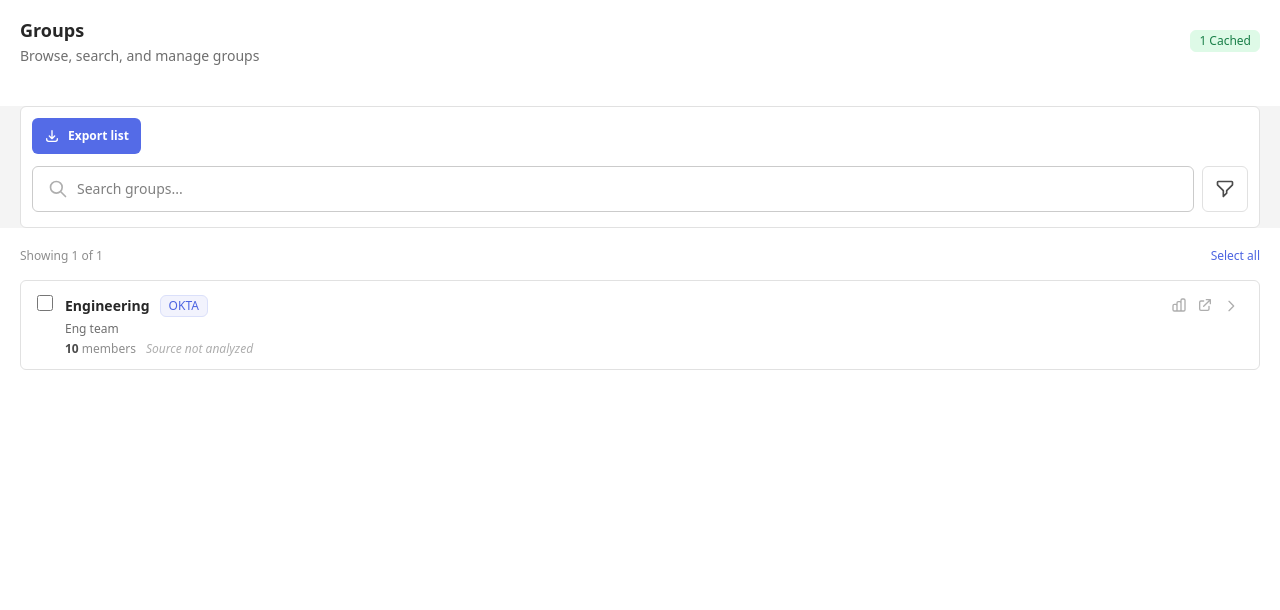
it: GroupsTab sub-navigation › auto-analyzes a plain drill-in when the group is within the auto-load budget
Click the button named "Expand Engineering" at (1231, 306), box [1219,294,1243,318]
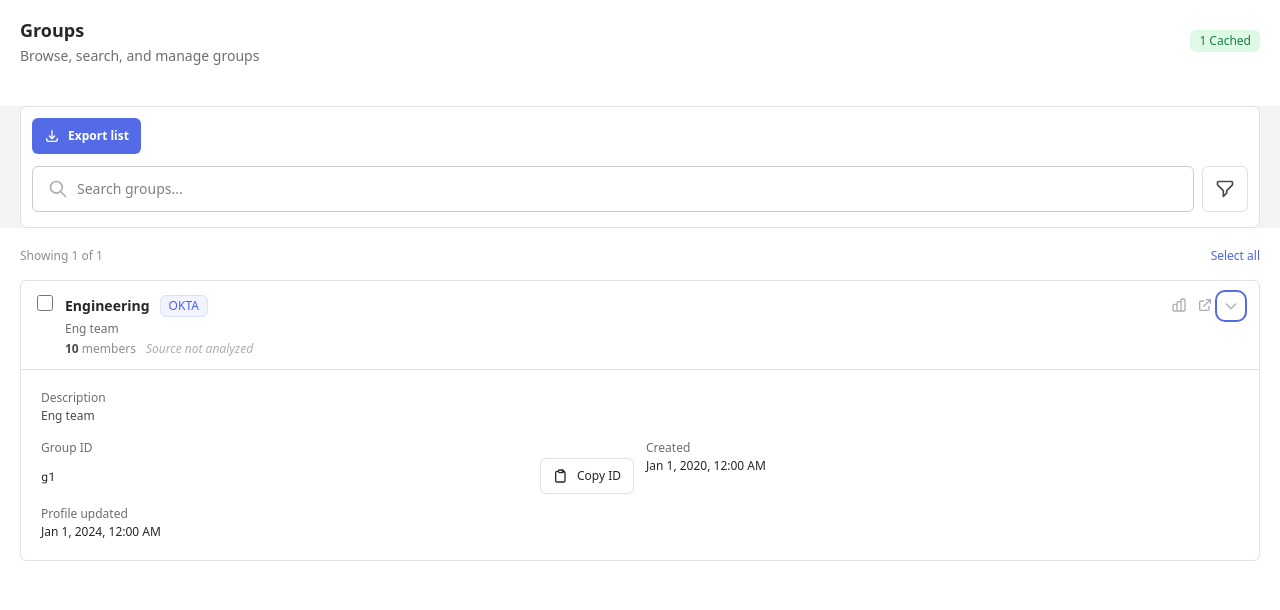
Click the button named "View group details" at (640, 325), box [21,281,1259,369]
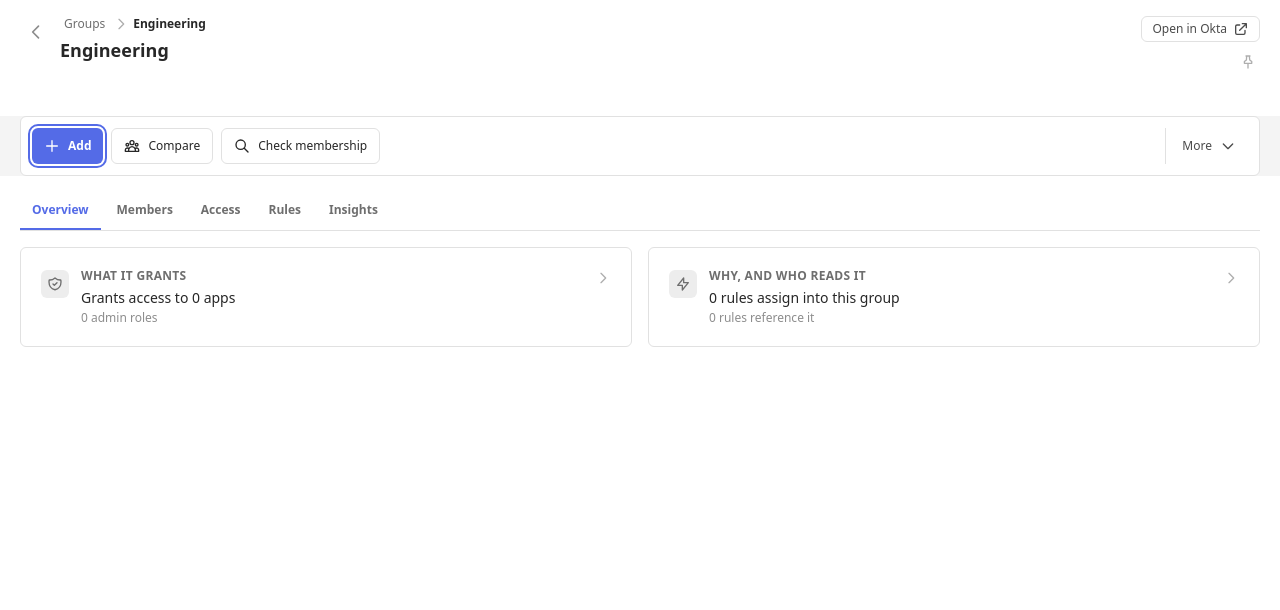
Click the tab "Members" at (145, 211), box [104,192,185,230]
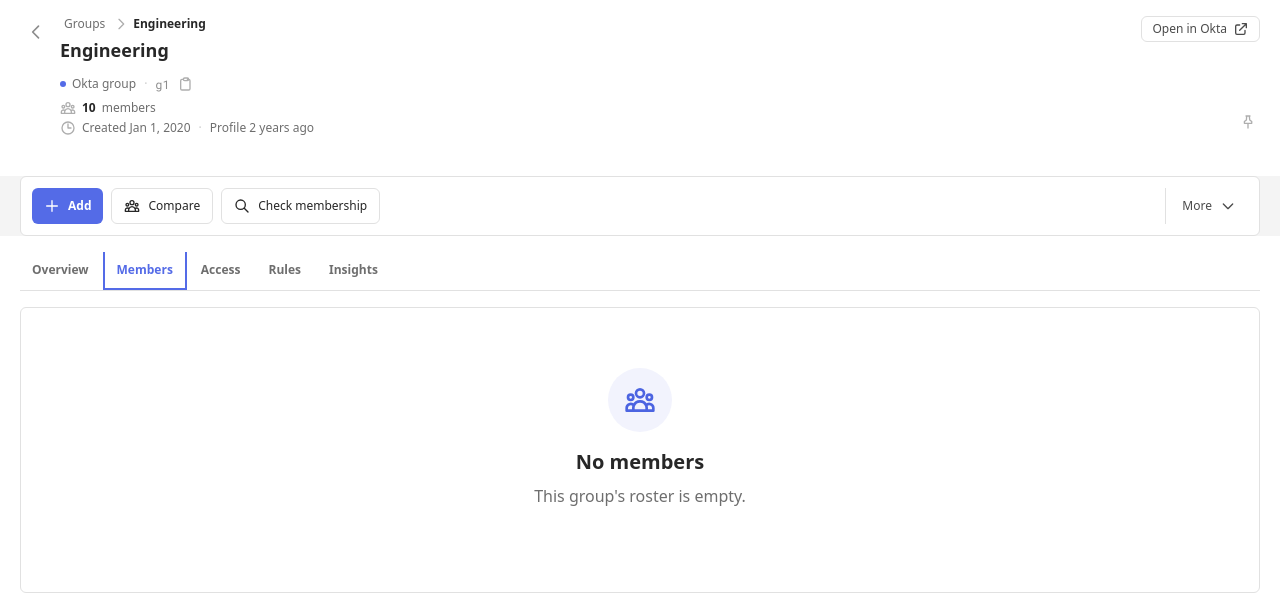
Expected: the text "This group's roster is empty." is shown, [534,485,746,507]
